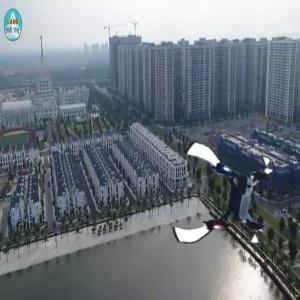drone: (170, 147, 276, 253)
